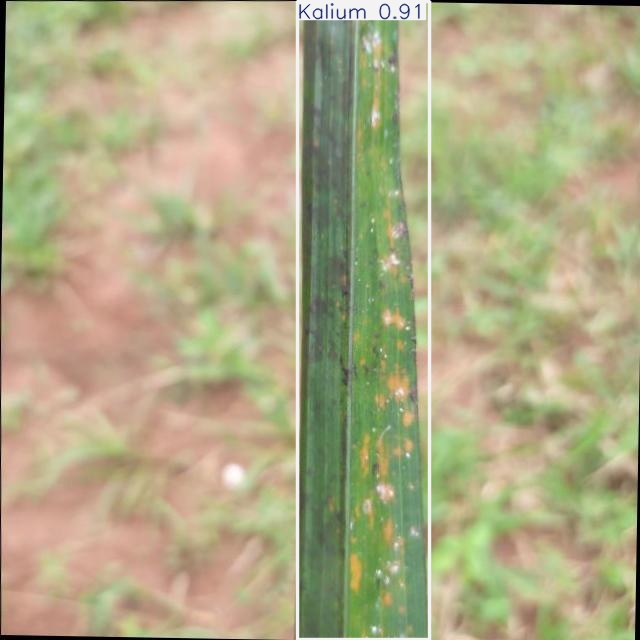Kalium: (297, 1, 430, 640)
